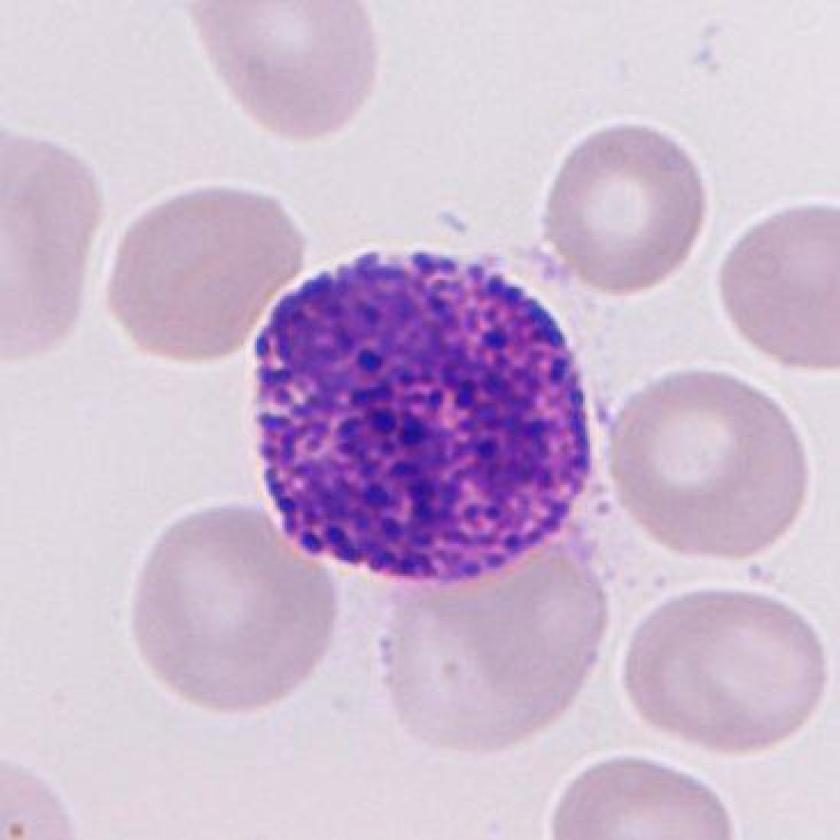basophil: (249, 236, 604, 586)
